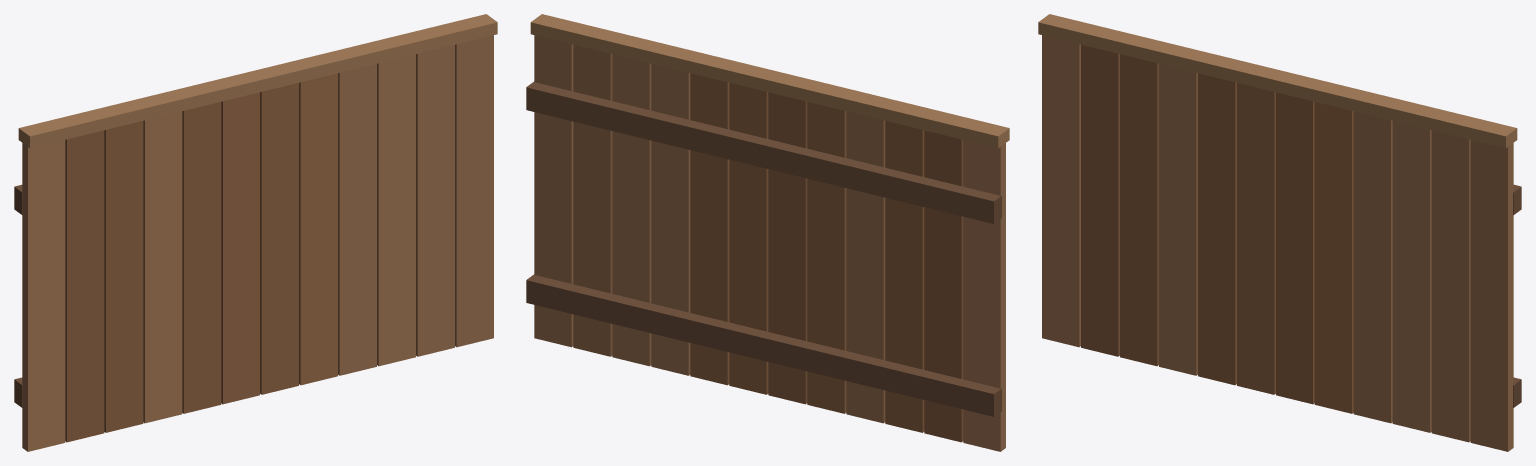
File: cedar_span.glb
3 views of the same model, side by side, from view 1: azimuth 30°, elevation 25°; view 2: azimuth 150°, elevation 25°; view 3: azimuth 330°, elevation 25° (orthographic).
Visible parts, largest first — view 1: cedar_span; view 2: cedar_span; view 3: cedar_span.
Part boxes in pixels (x1,y1,x2,y2): cedar_span: [14, 14, 497, 451]; cedar_span: [526, 14, 1009, 451]; cedar_span: [1038, 14, 1521, 451].
Bounding box in the file's own units: 2.26 × 1.47 × 0.1325.
